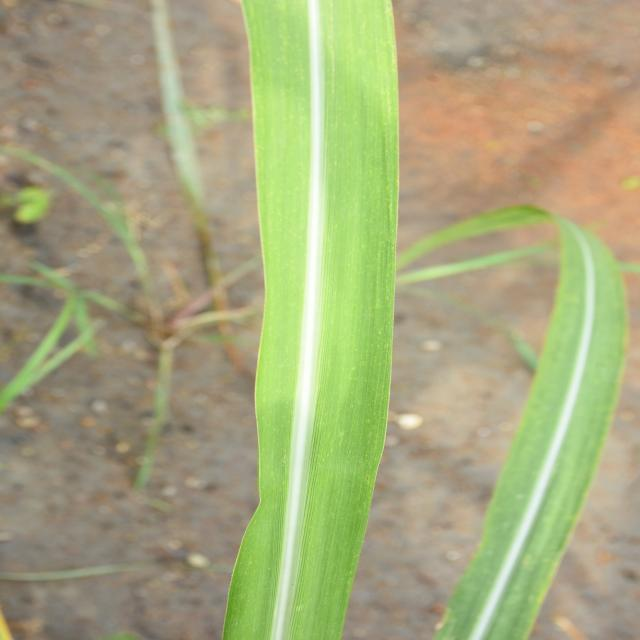Sugarcane: (228, 0, 402, 640)
